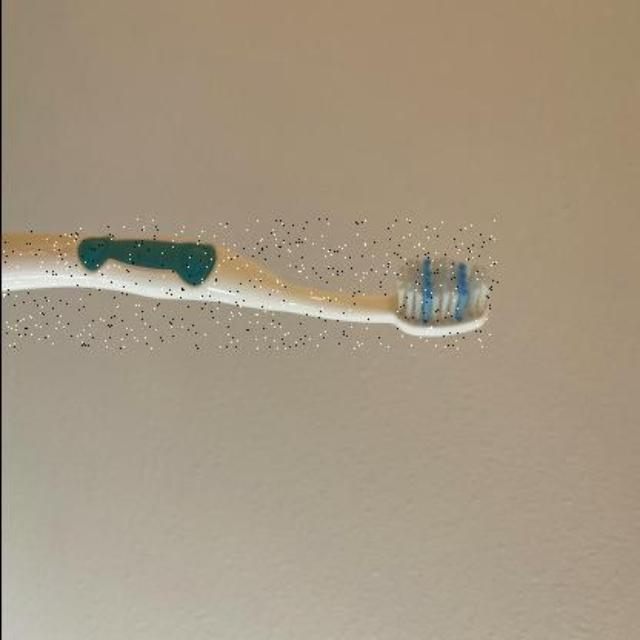toothbrush: (0, 219, 496, 349)
